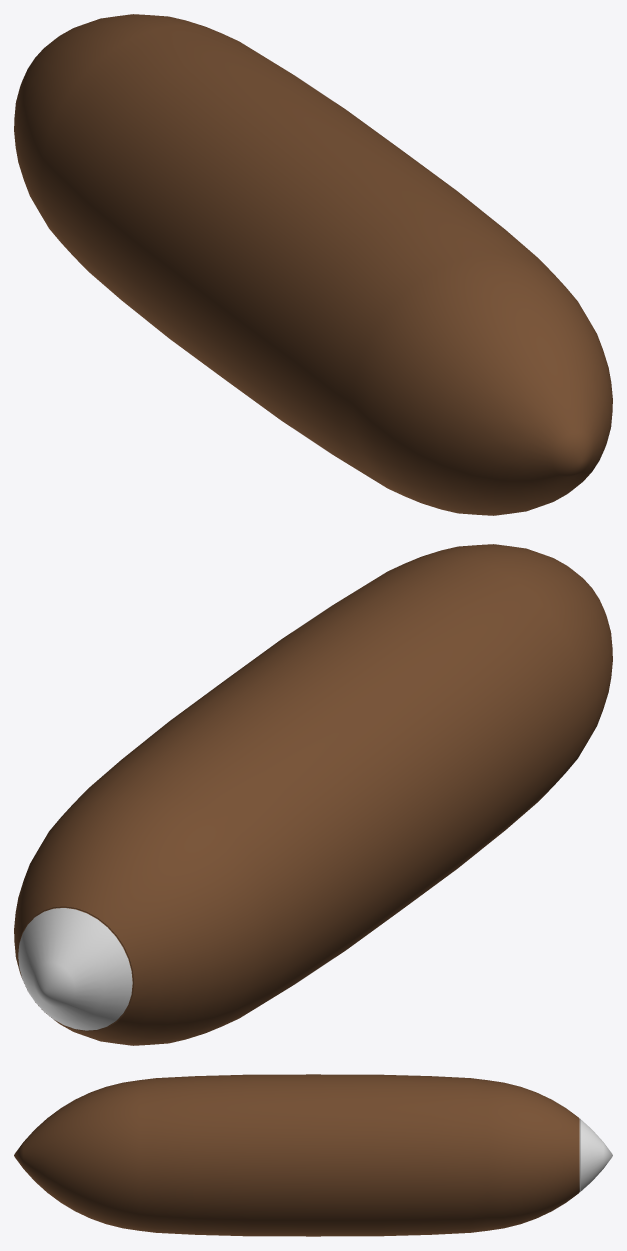
Rendered from bullet.fbx.
3 views of the same model, one above another, from view 1: azimuth 30°, elevation 25°; view 2: azimuth 150°, elevation 25°; view 3: azimuth 270°, elevation 25° (orthographic). The views are drawn at different scales.
Parts seen in each view (by area): view 1: Projectile; view 2: Projectile; view 3: Projectile.
Boxes of the visible parts, x1,y1,x2,y2 form: Projectile: [14, 14, 612, 515]; Projectile: [14, 544, 612, 1045]; Projectile: [14, 1074, 612, 1236].
Size of the model in its own units: 32.16 by 32.16 by 119.
